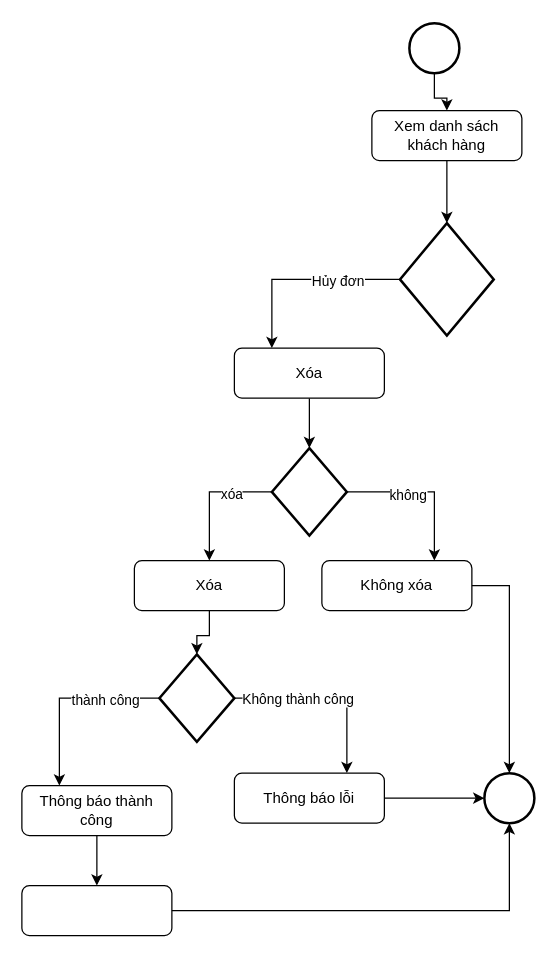
Image size: 558x958. Some labels were removed from this diagram. The centre of each missing label's shape, as x and y in pixels:
Kiểm tra trạng thái: point 446,278
Lấy lại dữ liệu mới: point 96,910
xác nhận xóa: point 309,491
